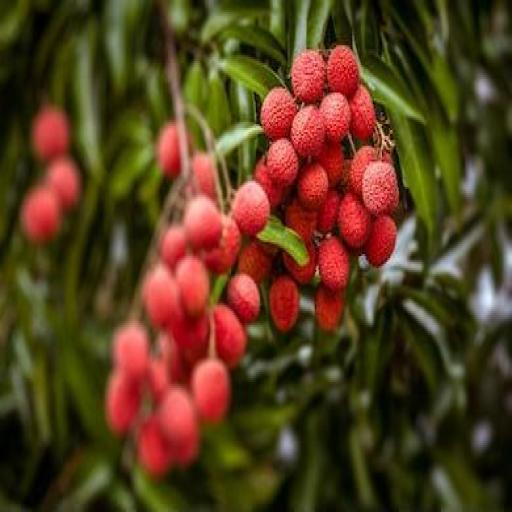lychee: (158, 386, 199, 464), (192, 359, 231, 423), (22, 186, 61, 244), (106, 371, 141, 435), (142, 264, 178, 326), (175, 255, 210, 317), (204, 215, 241, 273), (113, 321, 149, 380), (213, 304, 246, 368), (232, 182, 270, 236), (137, 416, 171, 476), (184, 195, 221, 250), (363, 162, 399, 216), (32, 107, 69, 159), (260, 87, 296, 139), (46, 158, 81, 210), (338, 193, 371, 248), (169, 308, 208, 354), (291, 105, 325, 157), (292, 50, 325, 102), (318, 237, 349, 291), (364, 215, 396, 267), (270, 276, 299, 332), (327, 46, 358, 98), (254, 158, 286, 208), (267, 138, 299, 187), (228, 274, 259, 322), (297, 162, 328, 210), (238, 241, 273, 283), (320, 93, 350, 141), (350, 146, 378, 196), (285, 199, 317, 242), (350, 85, 375, 139), (284, 241, 316, 283), (157, 123, 181, 177), (317, 142, 345, 187), (316, 284, 343, 330), (159, 225, 187, 269), (192, 152, 216, 198), (317, 190, 340, 234), (148, 357, 169, 401)
